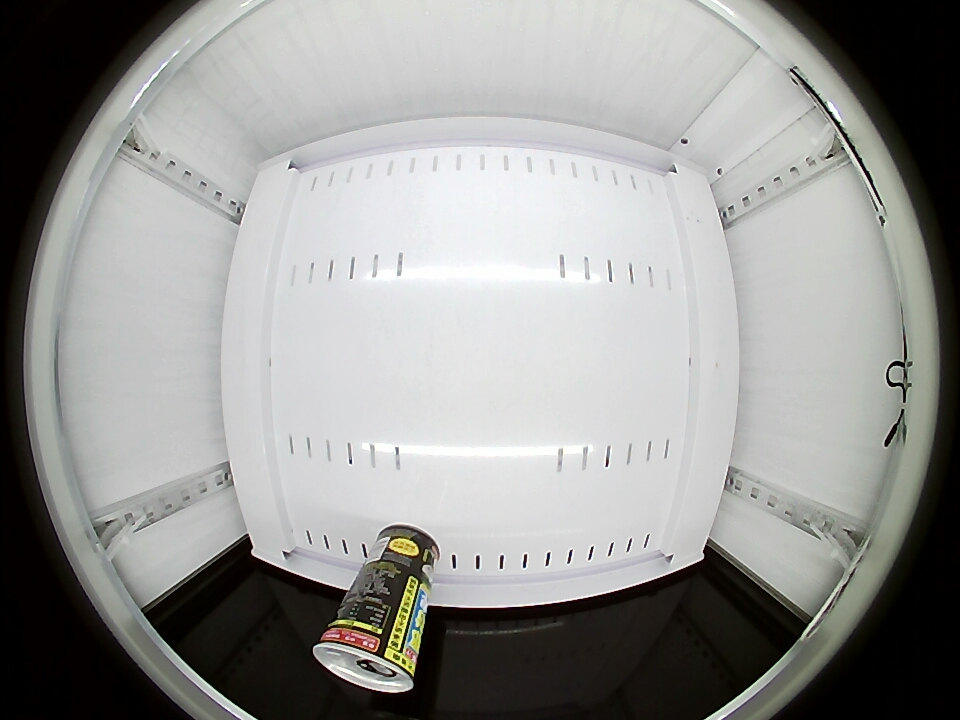yezhi: (314, 611, 420, 693)
